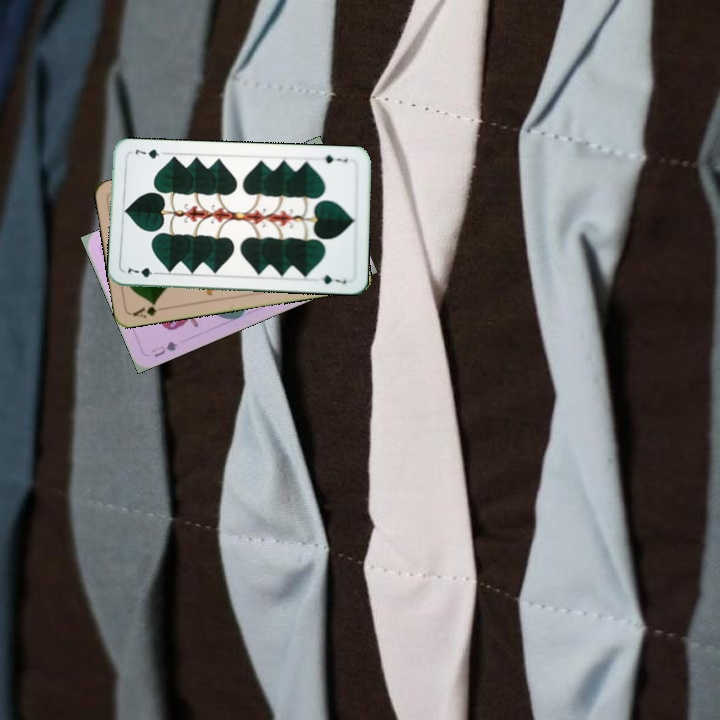G7: (124, 262, 163, 280), (320, 150, 350, 166)
GA: (128, 298, 169, 320)
GU: (148, 337, 181, 360)
